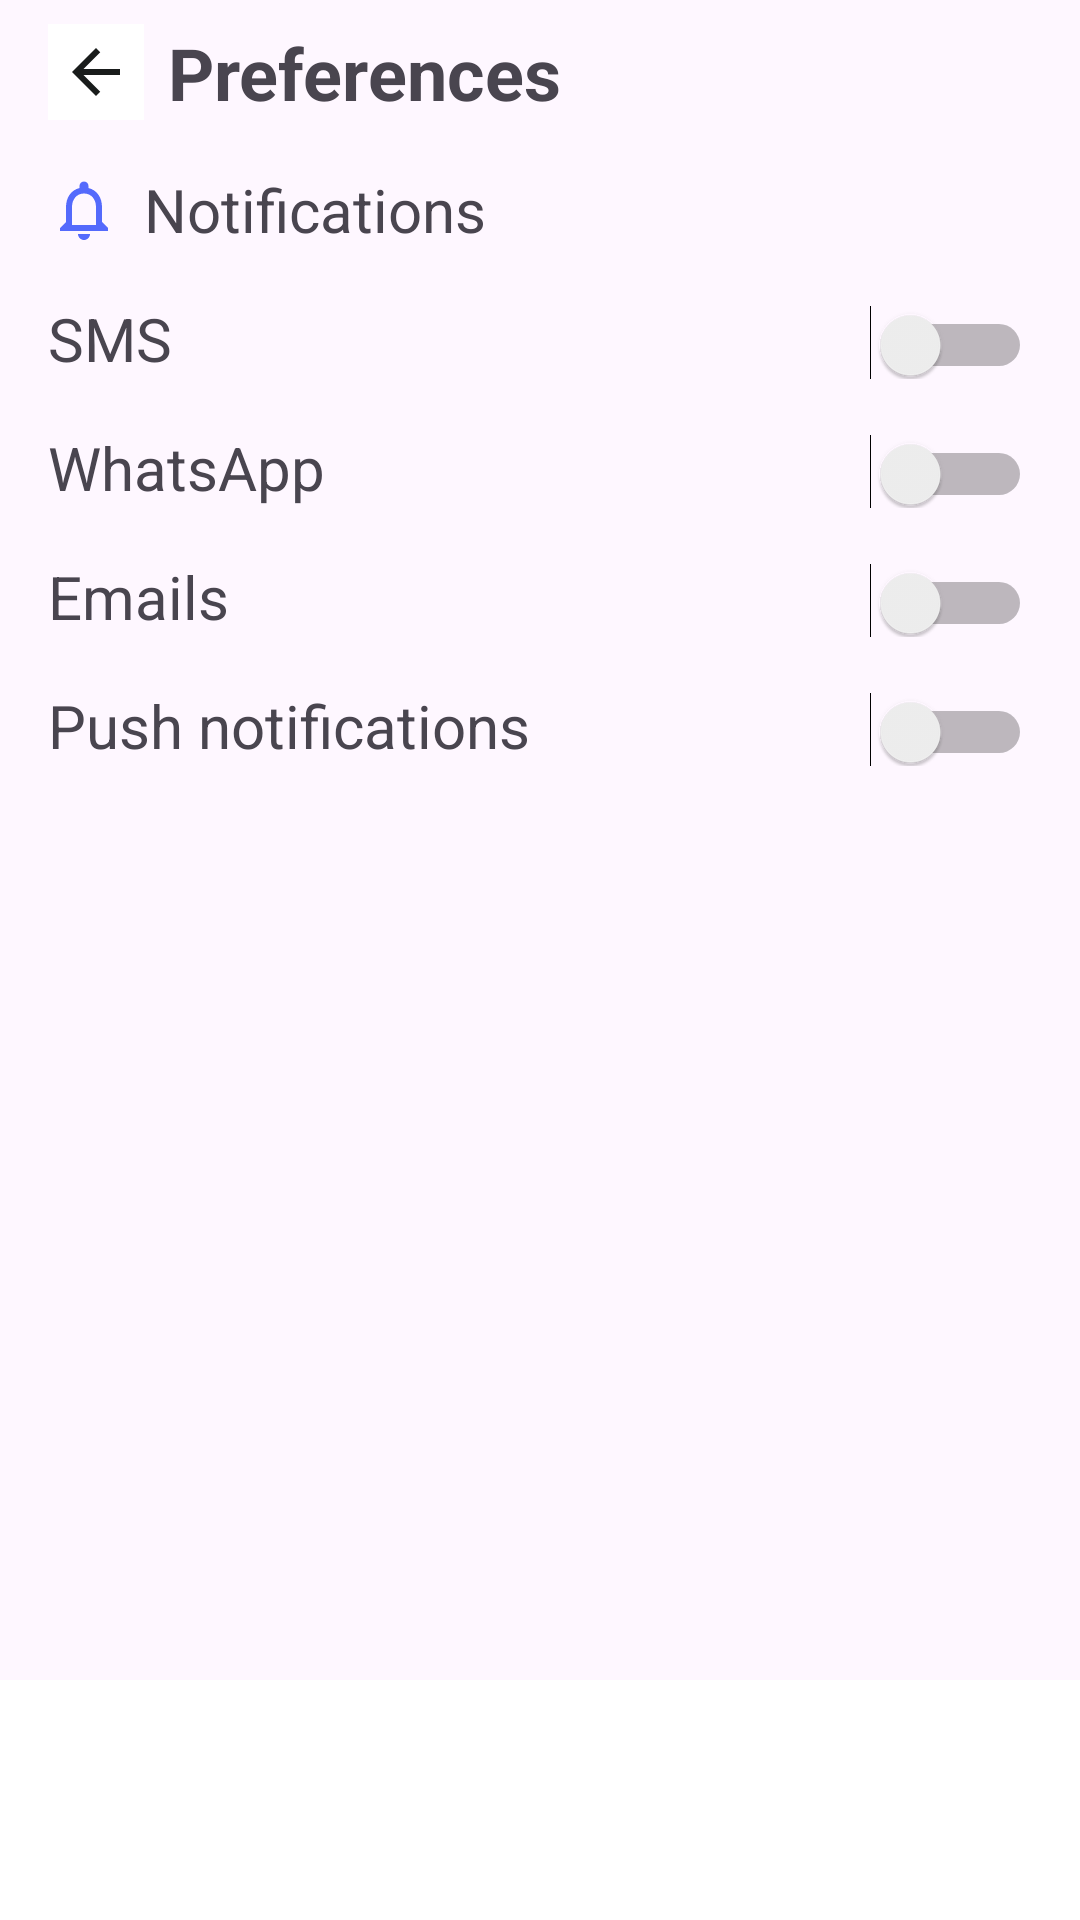

Icon click points for this 1080px x 1920px phone screenshot, format point (x, y):
arrow left: point (96, 72)
